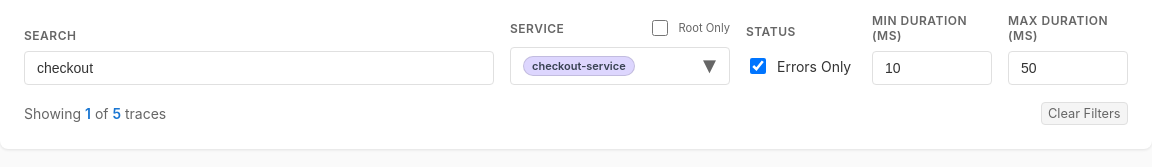
it: TraceFilters › clears all active filters
Check: the field labelled "Search" holds "checkout", box top-left (24, 51), bottom-right (494, 85)
Check: the button labelled "checkout-service ▾" is shown, box top-left (510, 47), bottom-right (730, 85)
Click the button "Clear Filters".
click(1084, 113)  # box top-left (1040, 102), bottom-right (1128, 125)
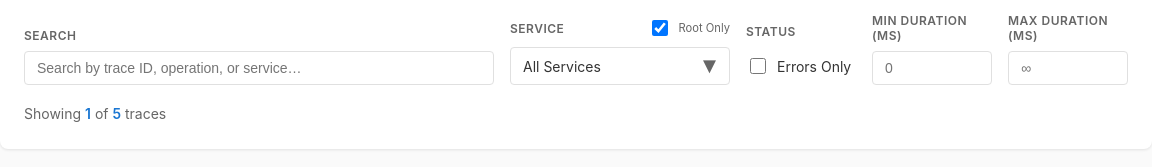
Check: the field labelled "Search" is empty, box top-left (24, 51), bottom-right (494, 85)
Check: the button labelled "All Services ▾" is shown, box top-left (510, 47), bottom-right (730, 85)
Check: the checkbox labelled "Root Only" is checked, box top-left (652, 20), bottom-right (668, 36)
